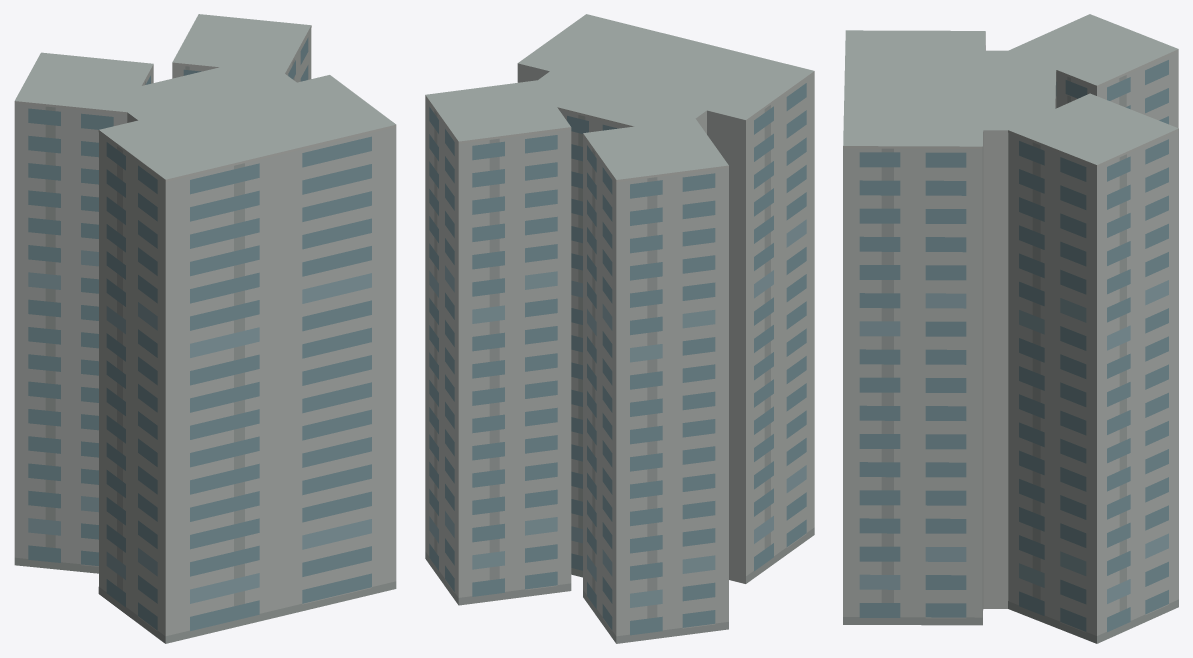
File: residential-98f3b552-8593-4231-b22a-732af2b56f2e.glb
3 renders of one model, left to right at view 1: azimuth 30°, elevation 25°; view 2: azimuth 150°, elevation 25°; view 3: azimuth 270°, elevation 25°, orthographic. The views are drawn at different scales.
Visible parts, largest first — view 1: residential-98f3b552-8593-4231-b22a-732af2b56f2e.tmp; view 2: residential-98f3b552-8593-4231-b22a-732af2b56f2e.tmp; view 3: residential-98f3b552-8593-4231-b22a-732af2b56f2e.tmp.
Boxes of the visible parts, left/top/right/bottom form: residential-98f3b552-8593-4231-b22a-732af2b56f2e.tmp: left=14, top=14, right=396, bottom=643; residential-98f3b552-8593-4231-b22a-732af2b56f2e.tmp: left=425, top=14, right=814, bottom=643; residential-98f3b552-8593-4231-b22a-732af2b56f2e.tmp: left=843, top=14, right=1178, bottom=643.
Bounding box in the file's own units: 32.51 × 48 × 30.51.
